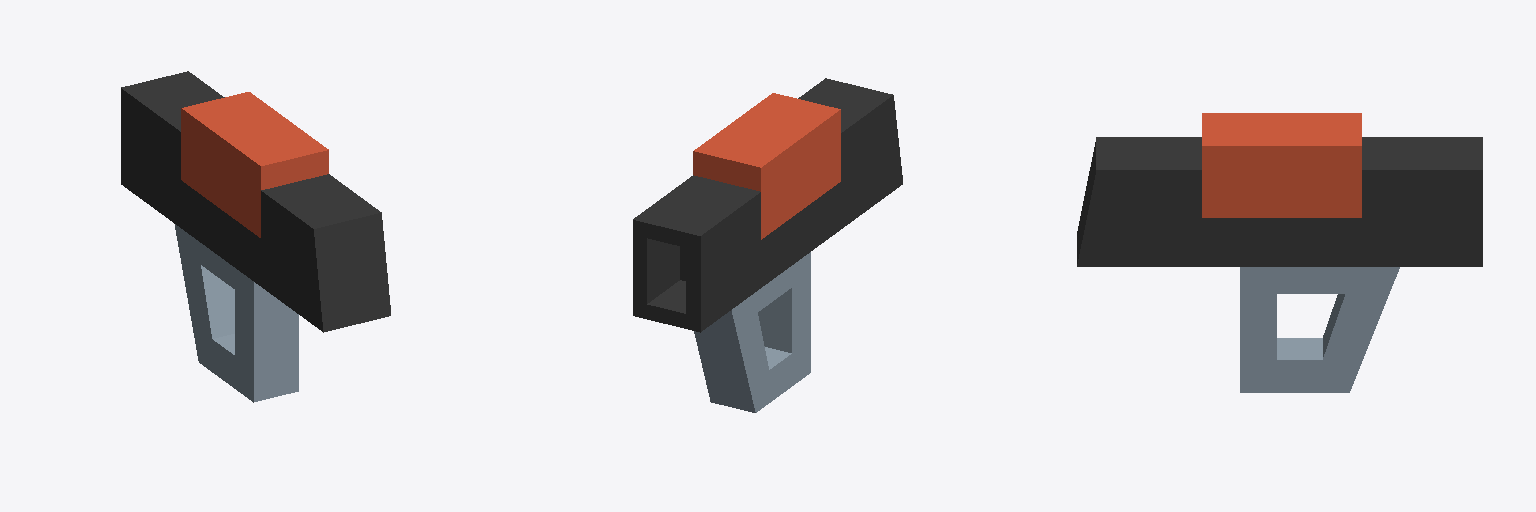
File: itemWeapon.obj
3 views of the same model, side by side, from view 1: azimuth 30°, elevation 25°; view 2: azimuth 150°, elevation 25°; view 3: azimuth 270°, elevation 25° (orthographic).
Visible parts, largest first — view 1: itemWeapon; view 2: itemWeapon; view 3: itemWeapon.
Part boxes in pixels (left/top/right/bottom): itemWeapon: left=121, top=71, right=390, bottom=402; itemWeapon: left=633, top=78, right=902, bottom=412; itemWeapon: left=1077, top=113, right=1482, bottom=392.
Size of the model in its own units: 0.5915 by 2.1 by 3.06.